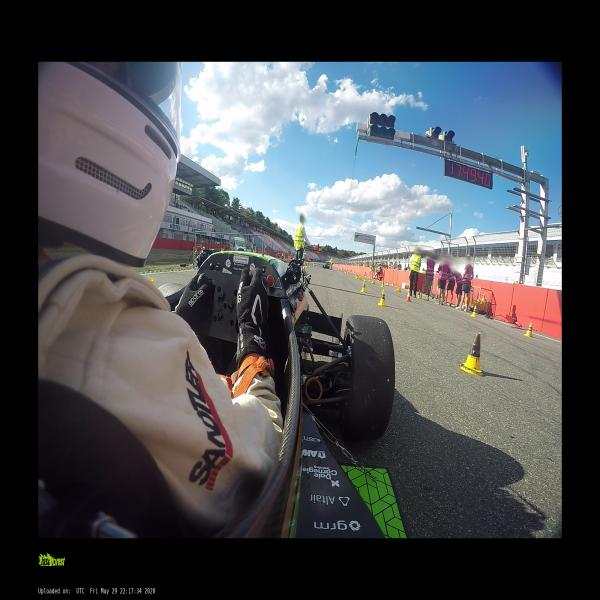orange_cone: (406, 290, 411, 302)
yellow_cone: (462, 332, 484, 376), (525, 322, 532, 337), (379, 289, 385, 306), (471, 305, 476, 317), (362, 281, 366, 292), (396, 287, 401, 292), (482, 292, 485, 300), (371, 280, 375, 285), (381, 281, 384, 287), (368, 276, 371, 282), (354, 273, 357, 277), (378, 278, 380, 283), (364, 276, 366, 281), (385, 283, 388, 285), (347, 271, 349, 274), (336, 268, 338, 270), (344, 270, 345, 272), (338, 268, 339, 270), (346, 270, 346, 274)
